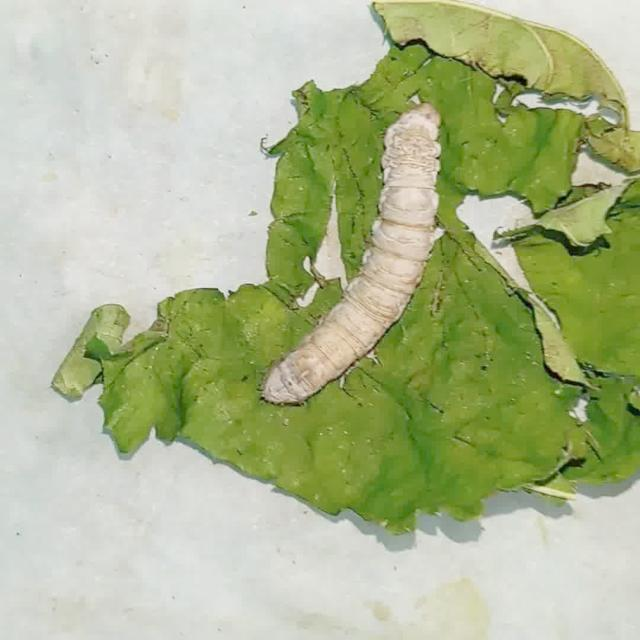Grasserie: (246, 82, 467, 436)
